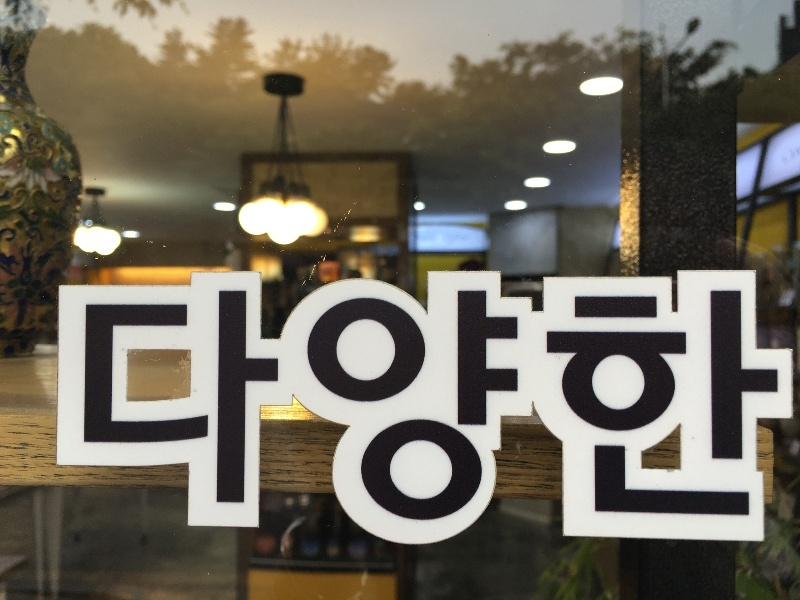text: (65, 270, 80, 547), (81, 270, 96, 547), (97, 270, 112, 547), (113, 270, 128, 547), (129, 270, 144, 547), (145, 270, 160, 547), (161, 270, 176, 547), (177, 270, 192, 547), (193, 270, 208, 547), (209, 270, 224, 547), (225, 270, 240, 547), (241, 270, 256, 547), (257, 270, 272, 547), (273, 270, 288, 547), (289, 270, 304, 547), (305, 270, 320, 547), (321, 270, 336, 547), (337, 270, 352, 547), (353, 270, 368, 547), (369, 270, 384, 547), (385, 270, 400, 547), (401, 270, 416, 547), (417, 270, 432, 547), (433, 270, 448, 547), (449, 270, 464, 547), (465, 270, 480, 547), (481, 270, 496, 547), (497, 270, 512, 547), (513, 270, 528, 547), (529, 270, 544, 547), (545, 270, 560, 547), (561, 270, 576, 547), (577, 270, 592, 547), (593, 270, 608, 547), (609, 270, 624, 547), (625, 270, 640, 547), (641, 270, 656, 547), (657, 270, 672, 547), (673, 270, 688, 547), (689, 270, 704, 547), (705, 270, 720, 547), (721, 270, 736, 547), (737, 270, 752, 547), (753, 270, 768, 547), (769, 270, 784, 547), (785, 270, 795, 547), (59, 270, 64, 547)
